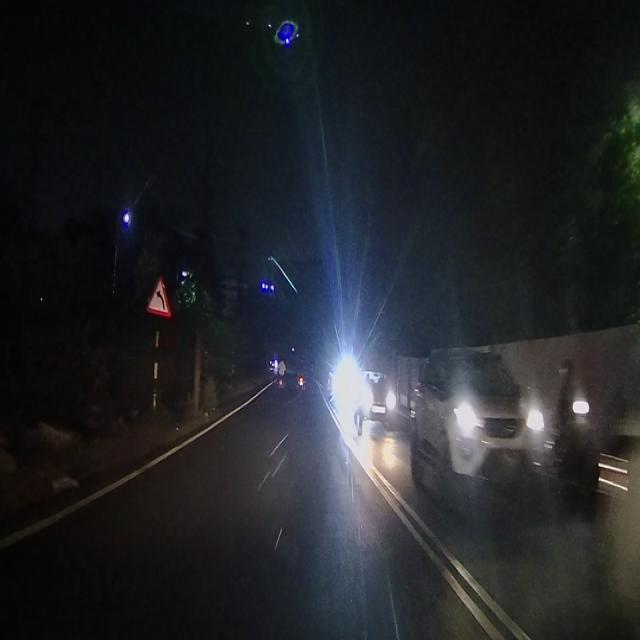left-hand-curve: (147, 269, 171, 319)
